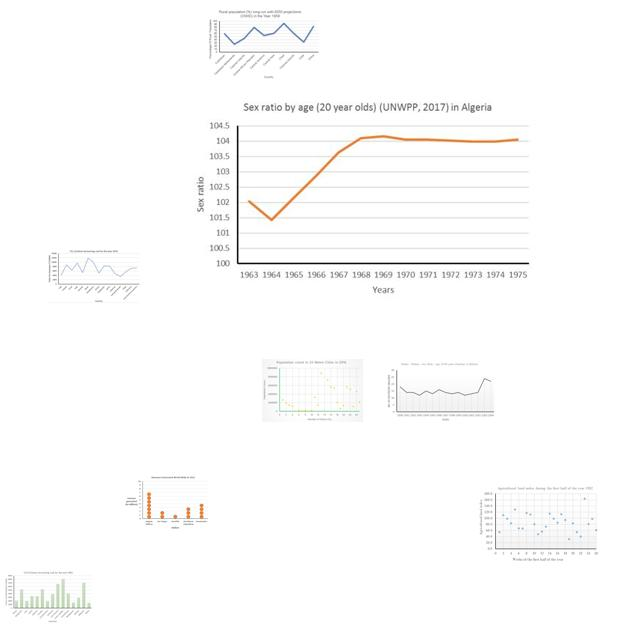Graph: (187, 95, 535, 300), (477, 484, 601, 564), (207, 9, 320, 80), (385, 361, 497, 422), (262, 359, 363, 422), (48, 249, 140, 303), (124, 475, 209, 530), (4, 571, 93, 623)
